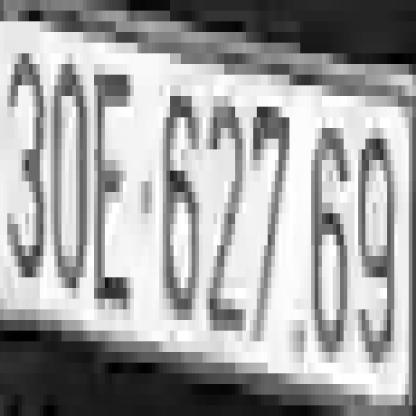0: (51, 64, 90, 288)
2: (206, 106, 239, 330)
3: (4, 53, 51, 278)
6: (308, 139, 348, 341), (163, 85, 199, 299)
7: (250, 107, 286, 320)
9: (354, 139, 394, 352)
E: (90, 75, 130, 298)
